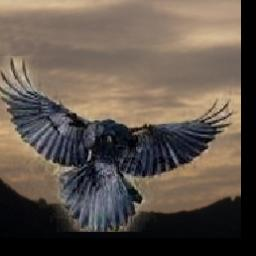Crow: (0, 57, 234, 233)
